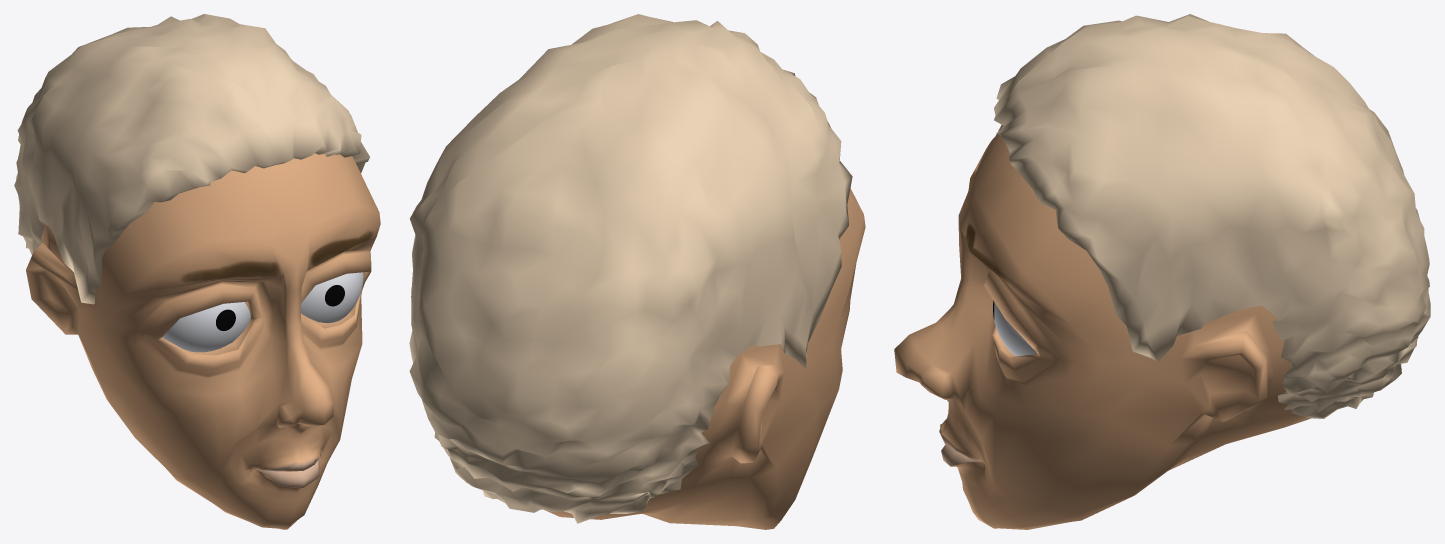
The model's file is face_save.fbx.
3 renders of one model, left to right at view 1: azimuth 30°, elevation 25°; view 2: azimuth 150°, elevation 25°; view 3: azimuth 270°, elevation 25°, orthographic. The views are drawn at different scales.
Parts seen in each view (by area): view 1: edward, hairs, right eye, left eye; view 2: hairs, edward; view 3: hairs, edward, left eye.
Boxes of the visible parts, x1,y1,x2,y2 form: edward: [26, 153, 380, 529]; hairs: [14, 14, 369, 304]; right eye: [162, 302, 250, 352]; left eye: [301, 272, 363, 323]; hairs: [409, 14, 852, 523]; edward: [544, 188, 865, 529]; hairs: [994, 14, 1430, 418]; edward: [894, 125, 1310, 529]; left eye: [993, 300, 1037, 356].
Bounding box in the file's own units: 186 × 277 × 276.
6 materials, 1 textured.
